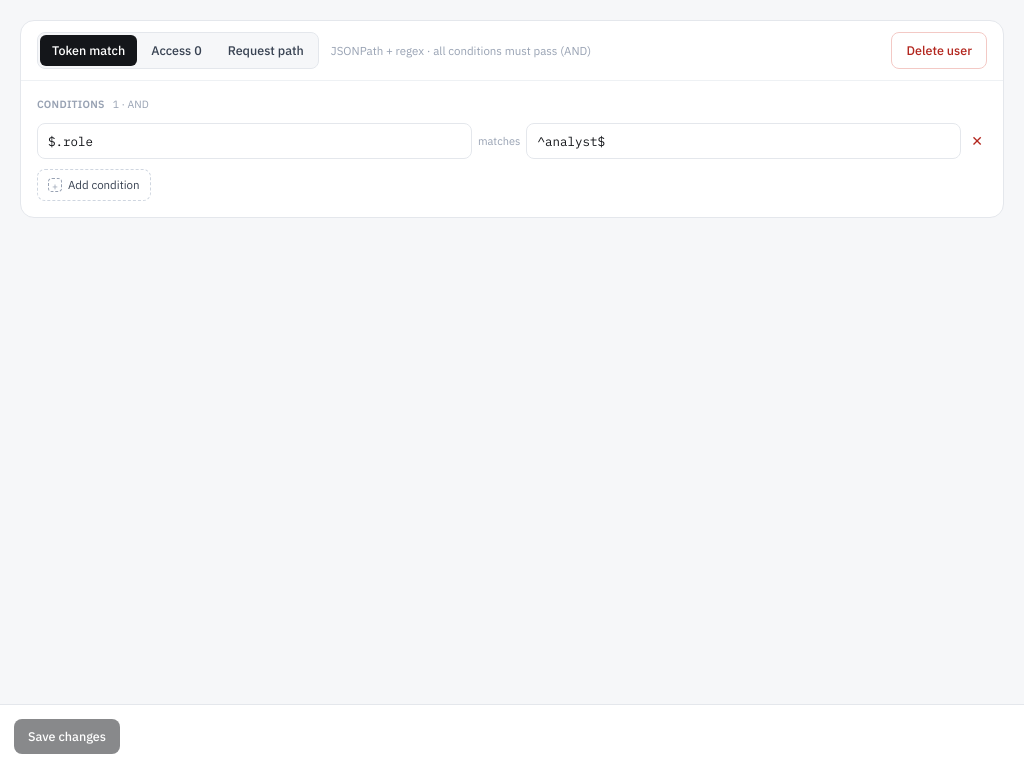
Test: UserDetail › editing a condition on an existing user enables Save and Discard, and Discard reverts it
Replace the text in the field named "Condition 1 regex" with "^lead$" at (744, 141), box x1=526 y1=122 x2=961 y2=159
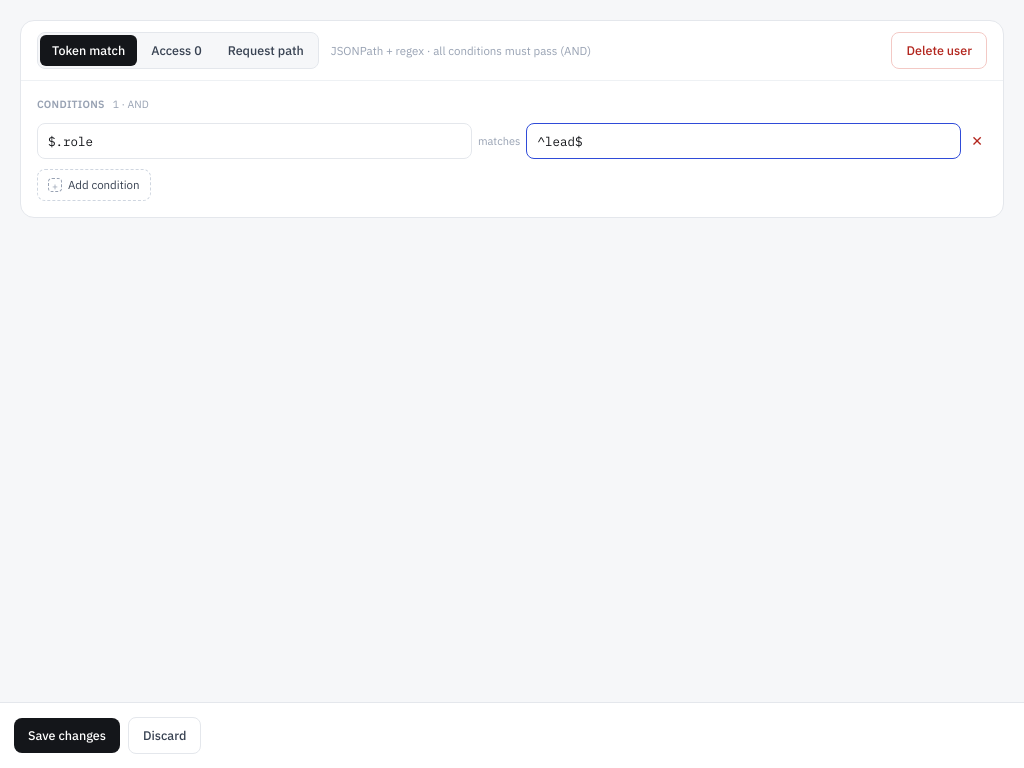
Result: the button "Save changes" is enabled at x1=14 y1=718 x2=120 y2=753
Click the button "Discard" at (165, 736), box x1=128 y1=717 x2=201 y2=754
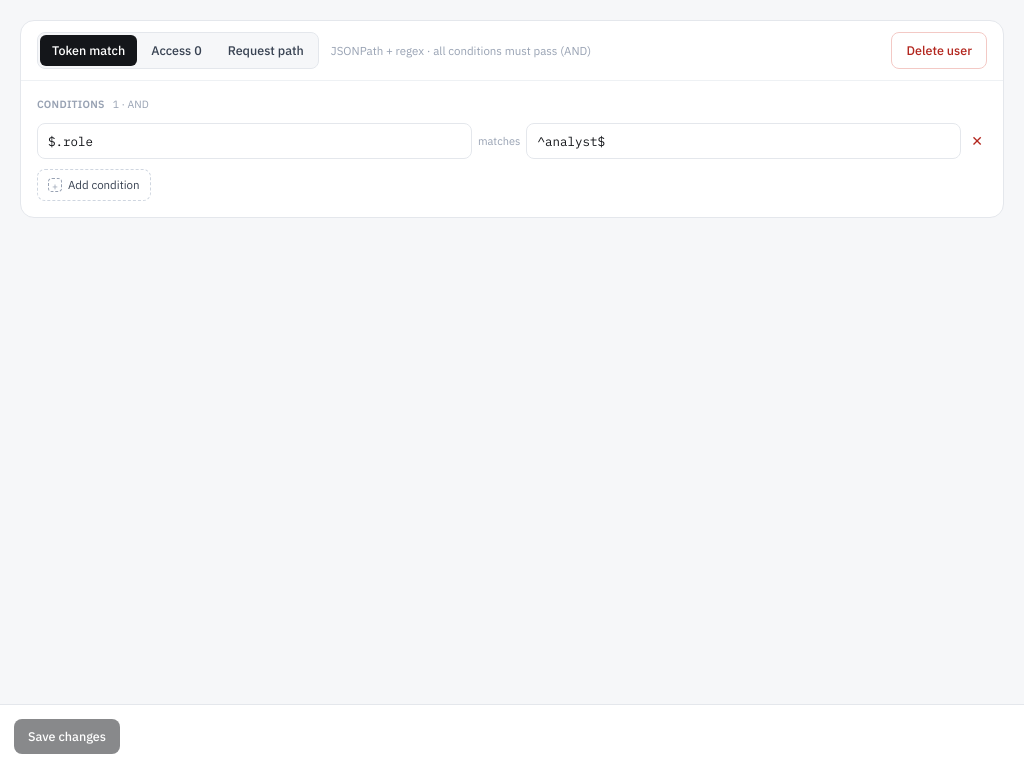
Result: the field named "Condition 1 regex" holds "^analyst$" at x1=526 y1=122 x2=961 y2=159
Result: the button "Save changes" is disabled at x1=14 y1=719 x2=120 y2=754
